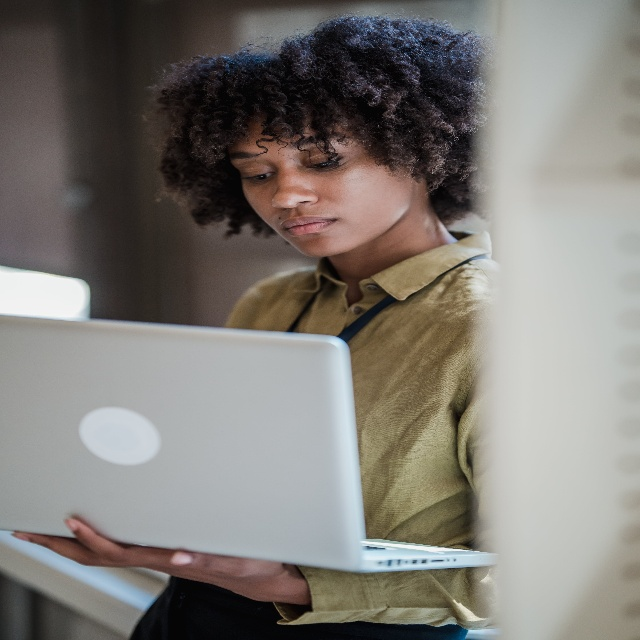Sin_guantes: (11, 518, 289, 603)
